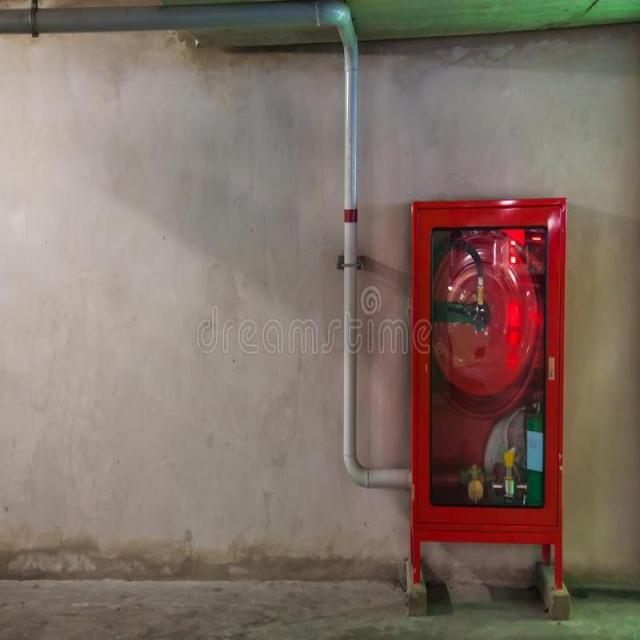fire_extinguisher: (518, 382, 555, 515)
